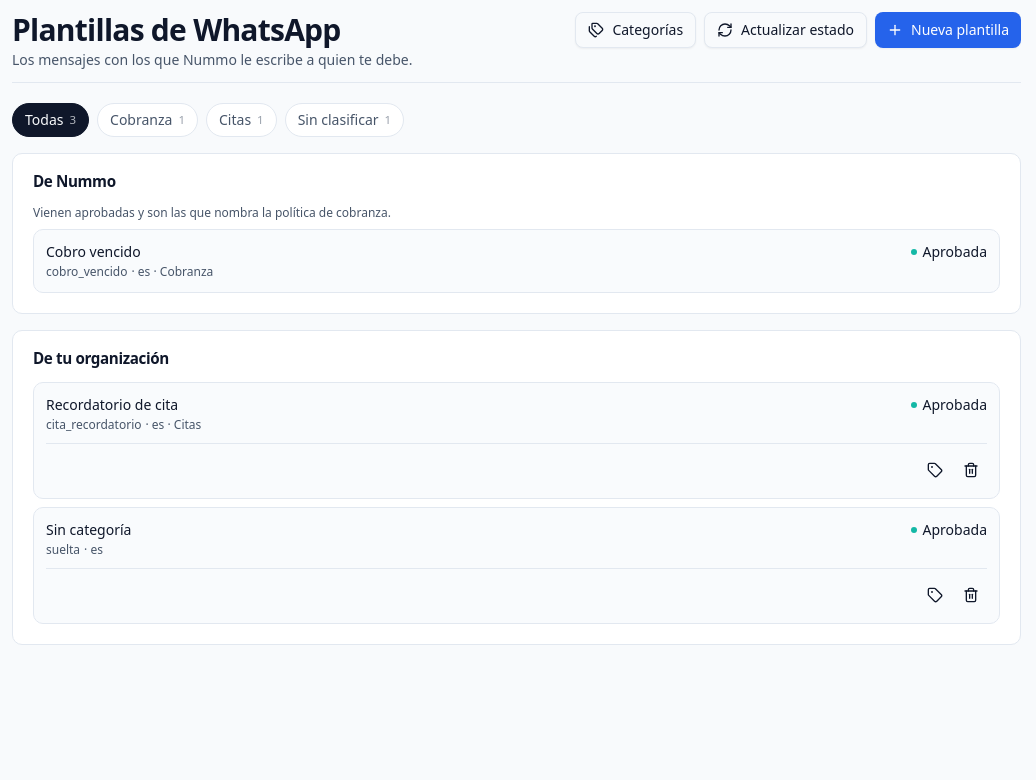
Test: las fichas reparten por categoría y filtran la lista
Expected: the radio button labelled "Todas 3" is shown, x1=12 y1=103 x2=89 y2=137
Expected: the radio button labelled "Sin clasificar 1" is shown, x1=285 y1=103 x2=404 y2=137
Click the radio button labelled "Citas 1".
click(241, 120)  # box x1=206 y1=103 x2=277 y2=137
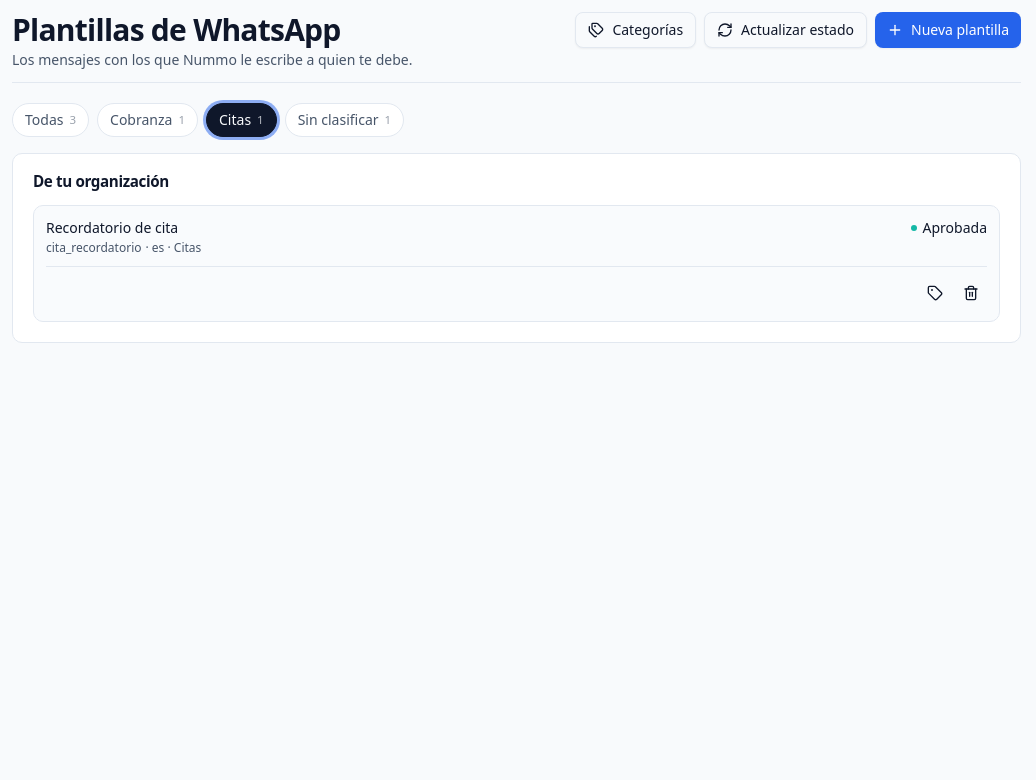
Expected: the text "Recordatorio de cita" is shown, x1=46 y1=218 x2=178 y2=237
Expected: the text "Cobro vencido" is gone
